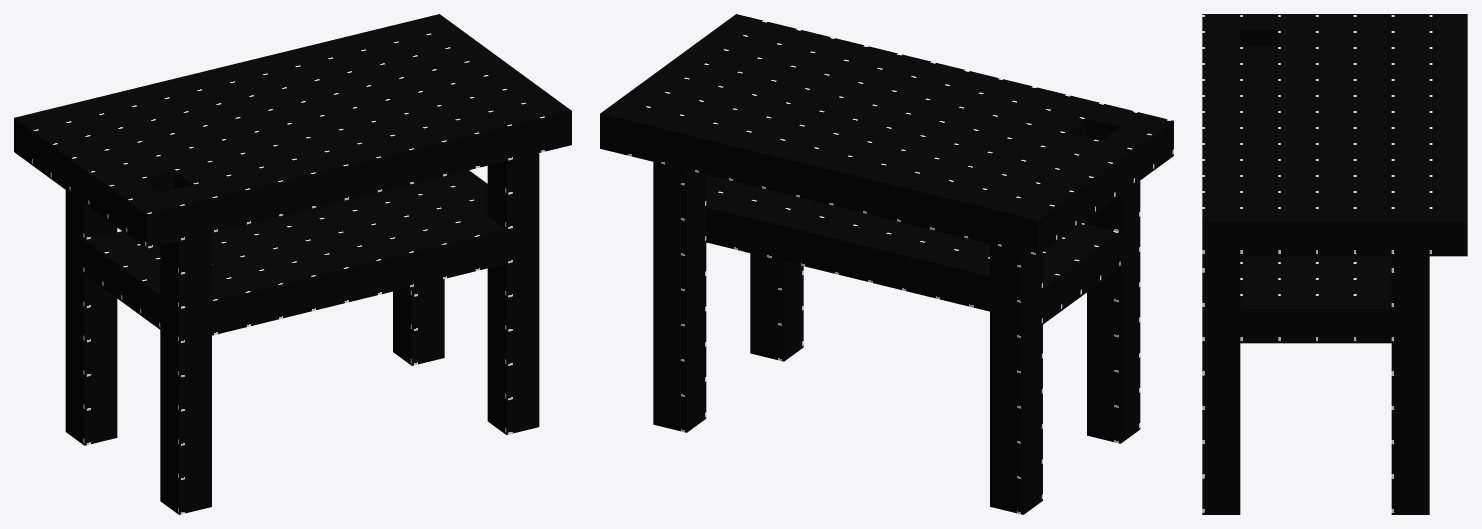
The model's file is banco_usv.gltf.
3 views of the same model, side by side, from view 1: azimuth 30°, elevation 25°; view 2: azimuth 150°, elevation 25°; view 3: azimuth 270°, elevation 25° (orthographic). The views are drawn at different scales.
Parts seen in each view (by area): view 1: Layer.3, Layer.1, Layer.2; view 2: Layer.3, Layer.1, Layer.2; view 3: Layer.3, Layer.1, Layer.2.
Boxes of the visible parts, left/top/right/bottom form: Layer.3: left=14, top=14, right=571, bottom=248; Layer.1: left=65, top=153, right=539, bottom=514; Layer.2: left=118, top=178, right=487, bottom=282; Layer.3: left=600, top=14, right=1173, bottom=255; Layer.1: left=653, top=162, right=1140, bottom=514; Layer.2: left=706, top=183, right=1086, bottom=311; Layer.3: left=1202, top=14, right=1467, bottom=256; Layer.1: left=1202, top=256, right=1429, bottom=514; Layer.2: left=1240, top=256, right=1391, bottom=292.
Bounding box in the file's own units: 13 × 9 × 7.
1 material, 1 textured.
